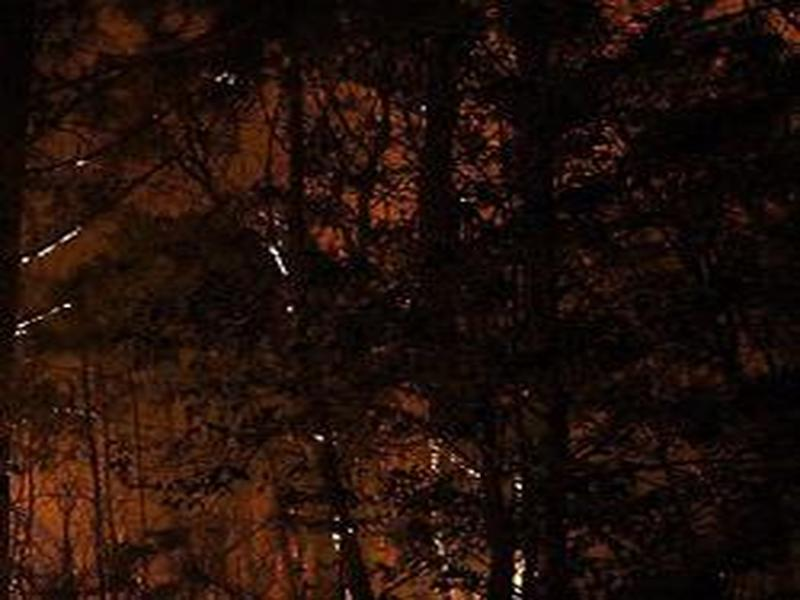FIRE: (16, 387, 518, 600)
